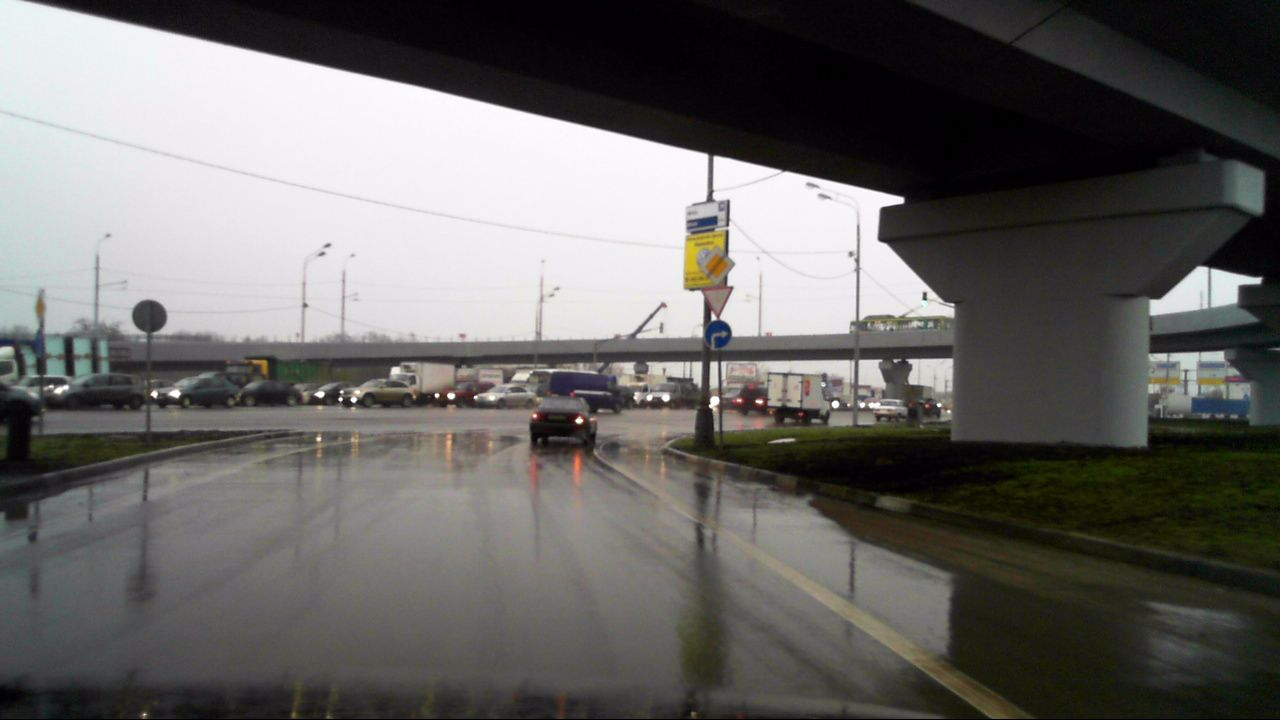main road: (699, 247, 735, 283)
